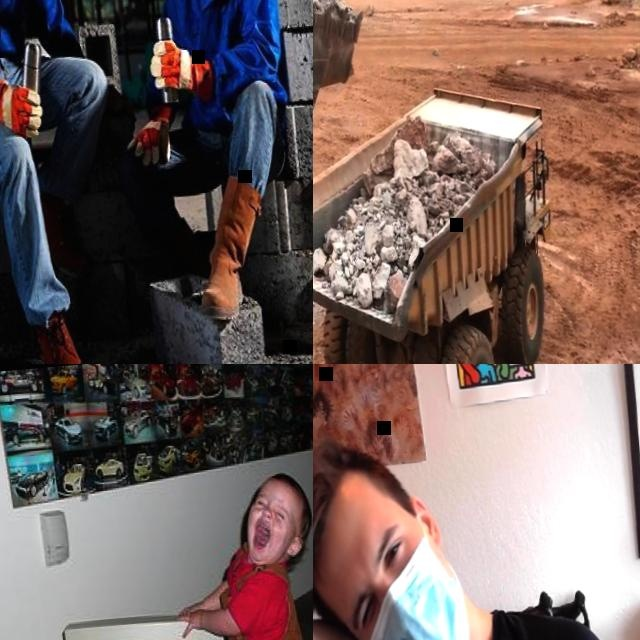Mask: (351, 536, 471, 640)
NO-Hardhat: (313, 438, 372, 601), (263, 467, 313, 530)
NO-Mask: (238, 509, 293, 562)
NO-Safety Vest: (168, 0, 267, 117), (217, 549, 311, 640)
Person: (313, 416, 640, 640), (96, 0, 306, 329), (0, 0, 138, 364), (165, 464, 313, 640)
machinery: (313, 70, 579, 364), (313, 0, 388, 297)
